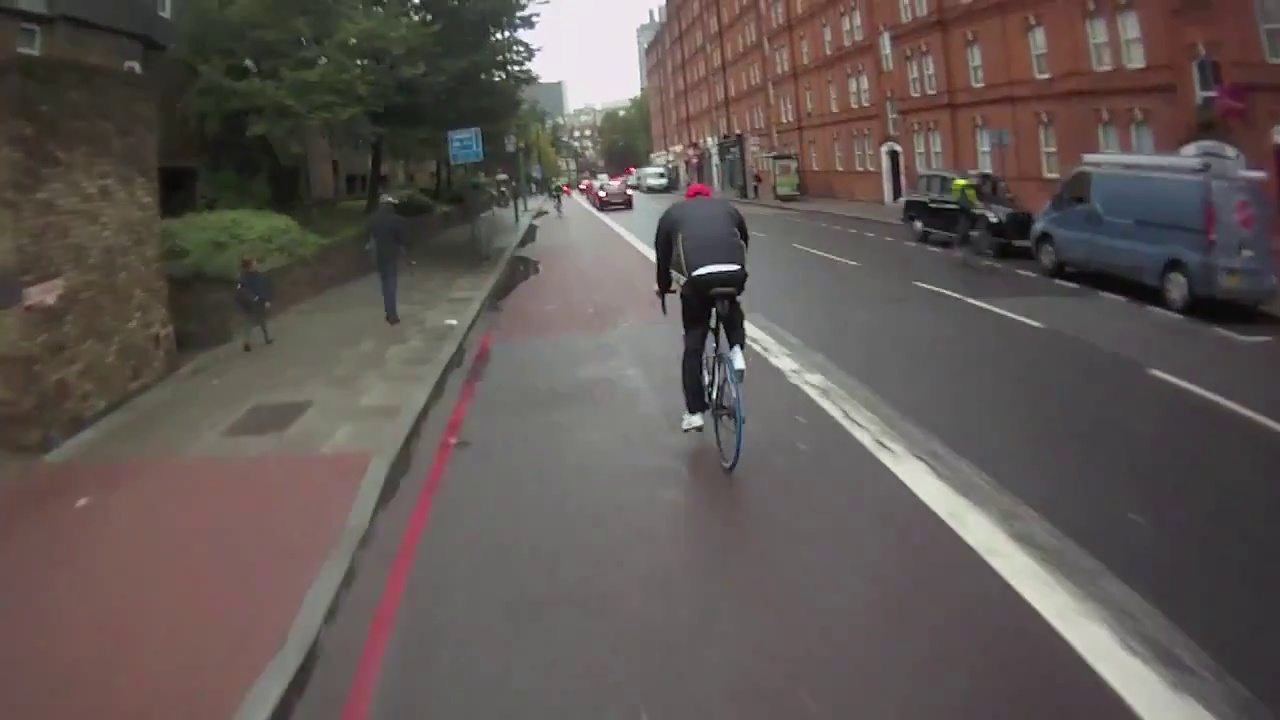cyclist_back: (659, 168, 763, 475)
